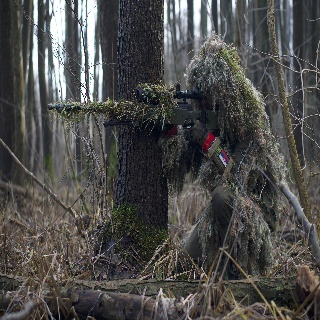rifle: (46, 80, 222, 141)
